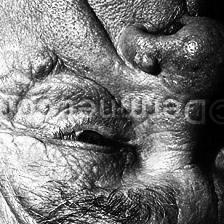Unclassified: (9, 163, 174, 224), (0, 40, 139, 90), (170, 156, 224, 216)
